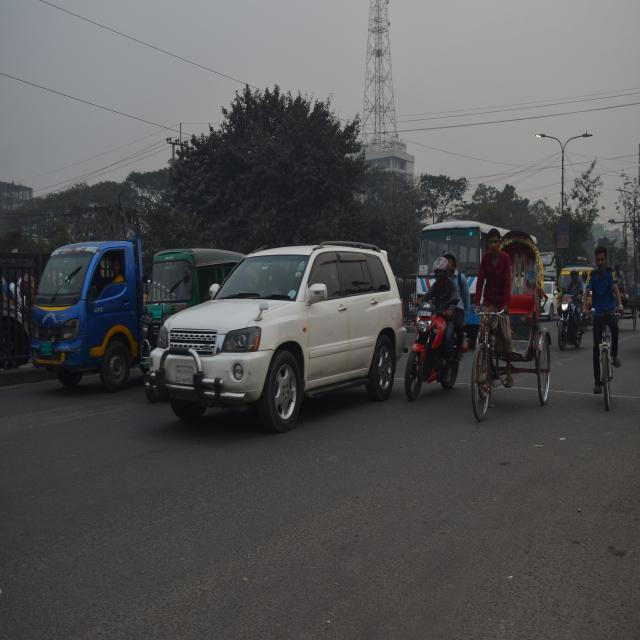bus: (416, 218, 498, 320)
car: (161, 234, 398, 420)
motorbike: (403, 314, 458, 408), (555, 290, 585, 356)
pickup-van: (32, 234, 157, 384)
